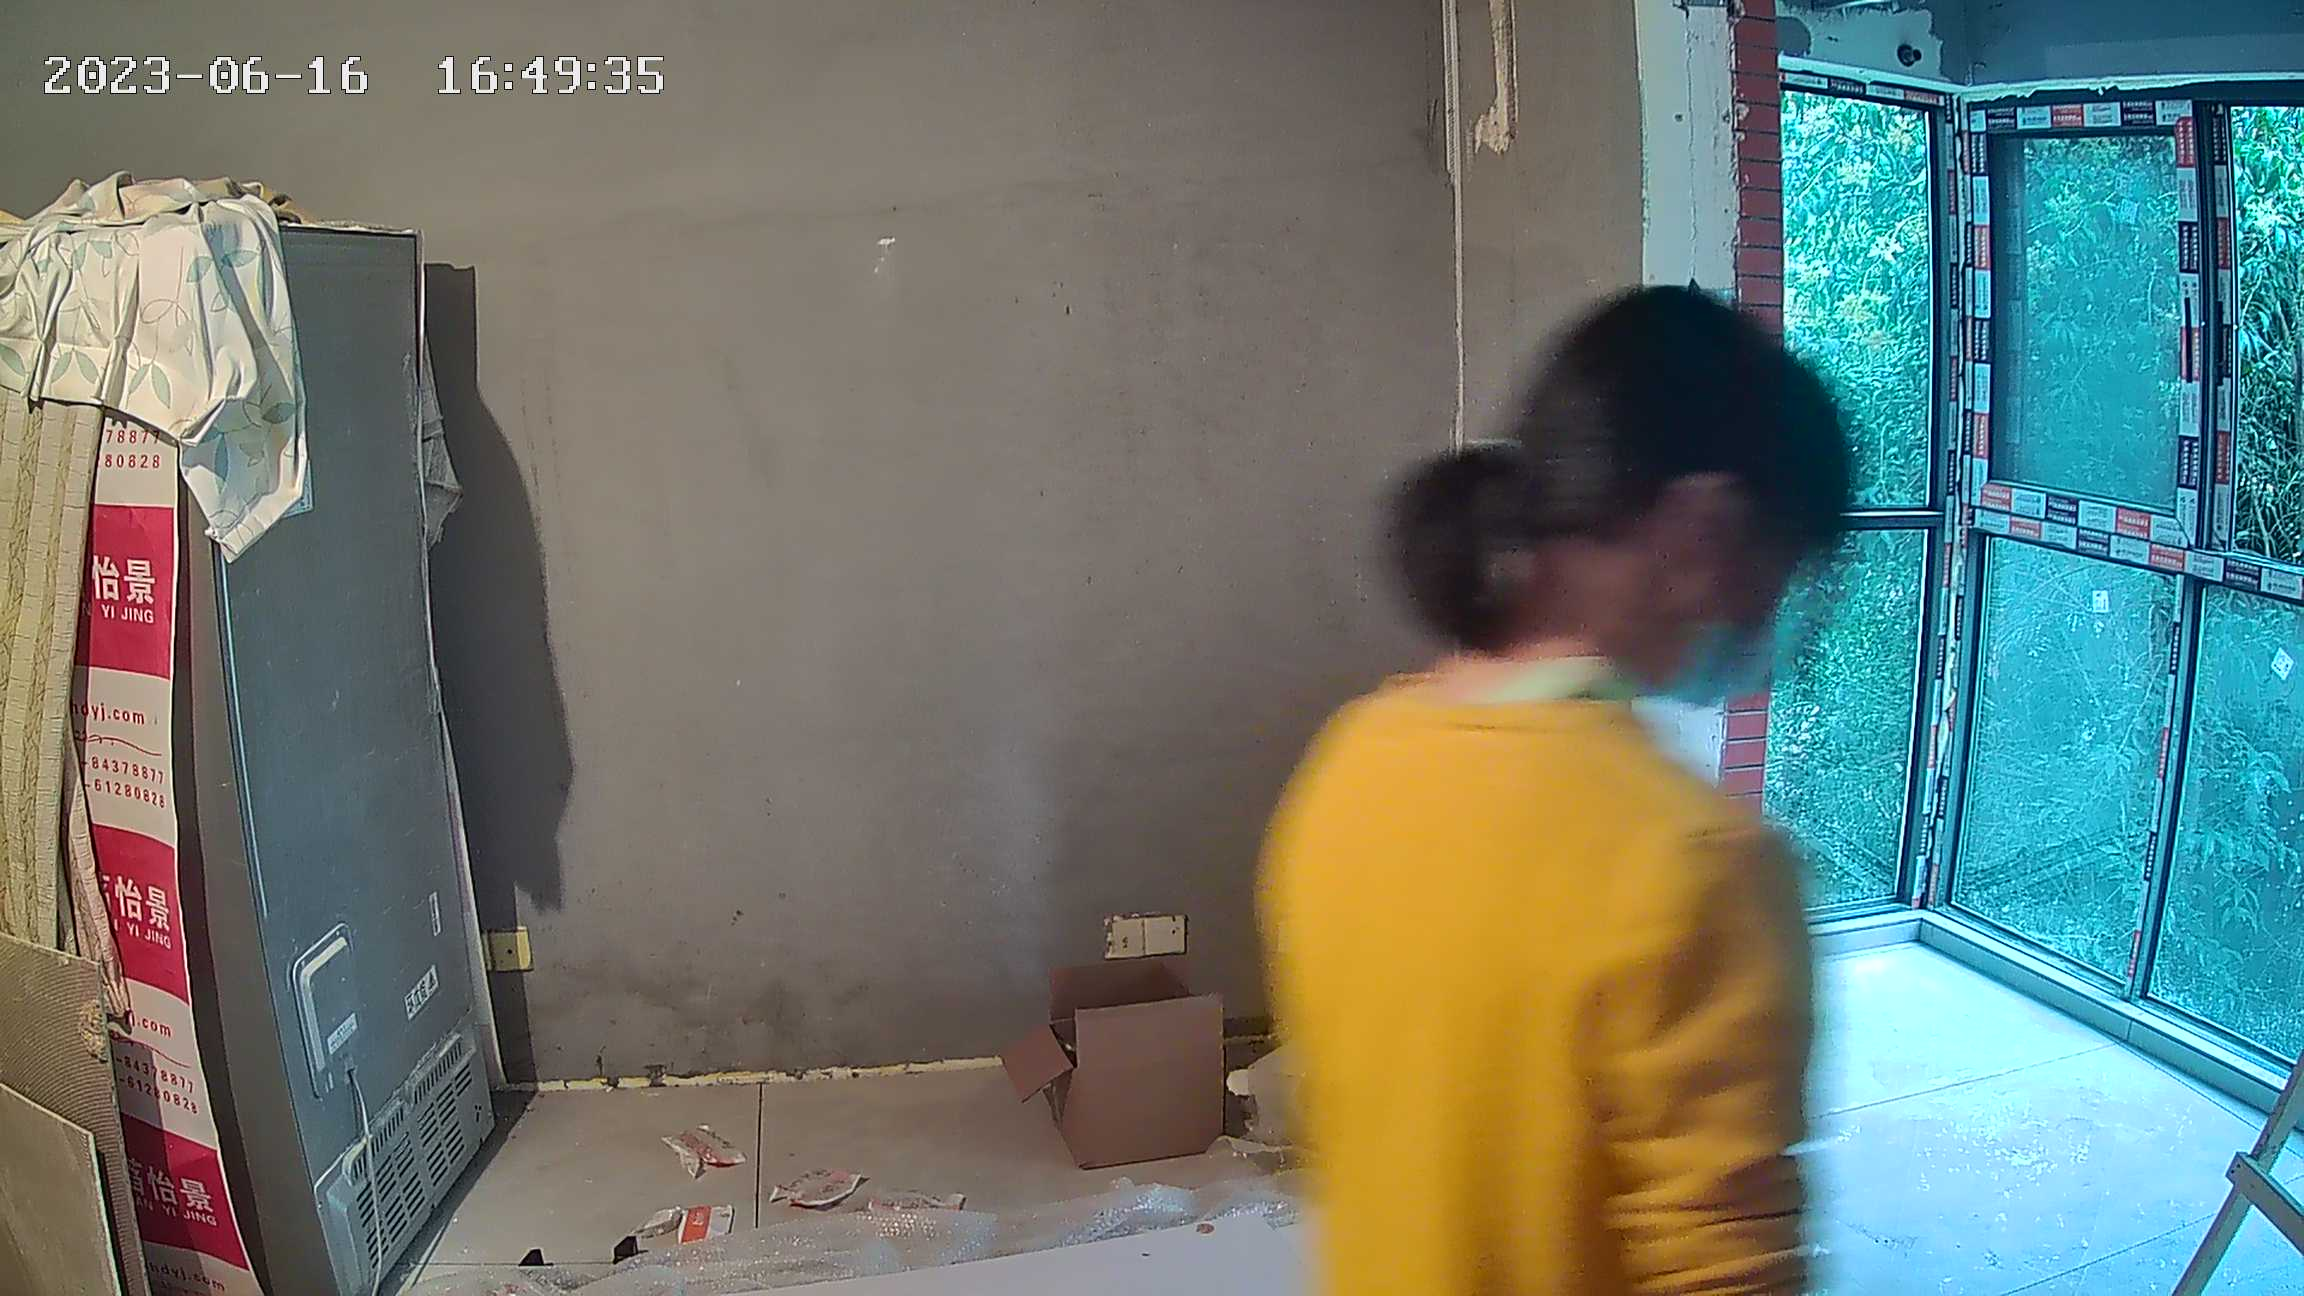people: (1240, 248, 1824, 1296)
window: (1780, 62, 2294, 1076)
